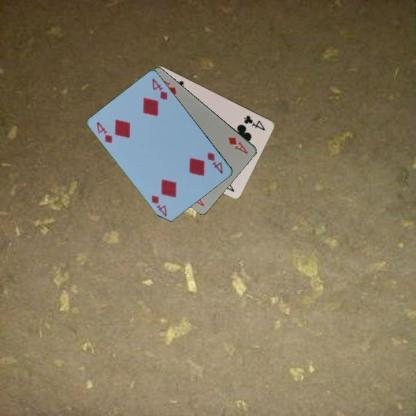4c: (240, 113, 266, 132)
4d: (94, 119, 115, 144), (204, 150, 224, 176)
Ad: (226, 134, 249, 154)
